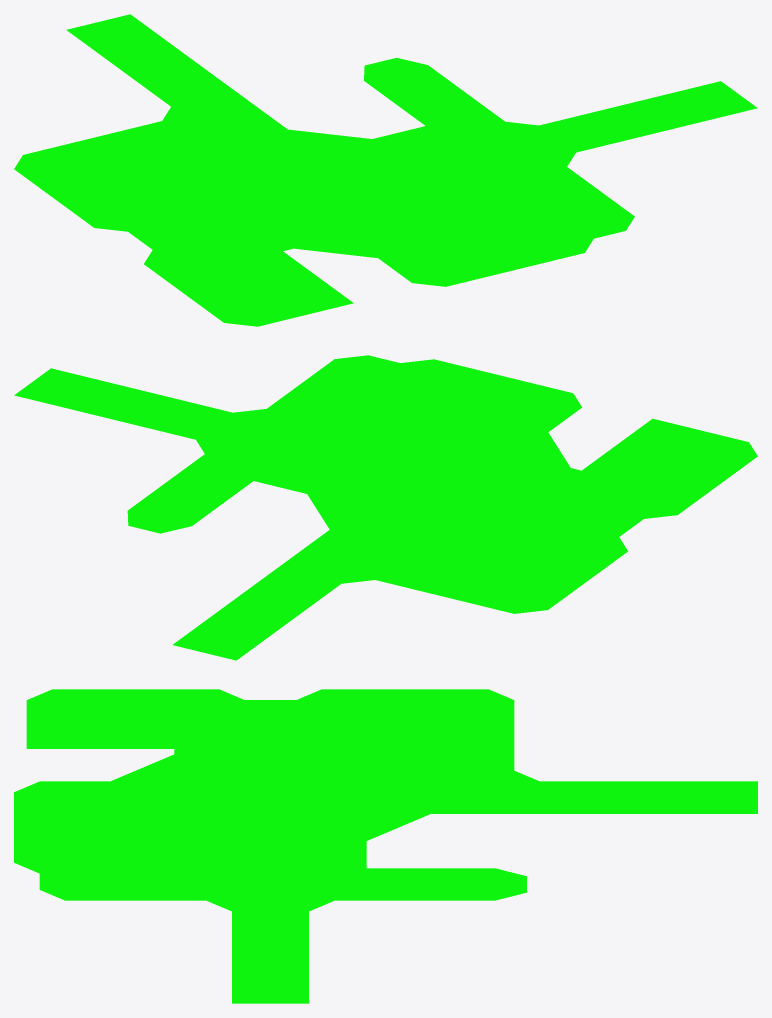
The model's file is s06a_lc2-floor.glb.
3 views of the same model, one above another, from view 1: azimuth 30°, elevation 25°; view 2: azimuth 150°, elevation 25°; view 3: azimuth 270°, elevation 25° (orthographic). The views are drawn at different scales.
Visible parts, largest first — view 1: collision_floor-colonly; view 2: collision_floor-colonly; view 3: collision_floor-colonly.
Boxes of the visible parts, box(x1,y1,x2,y2) form: collision_floor-colonly: box(14, 14, 757, 326); collision_floor-colonly: box(14, 355, 757, 660); collision_floor-colonly: box(14, 689, 757, 1003).
Bounding box in the file's own units: 58 × 0 × 58.
